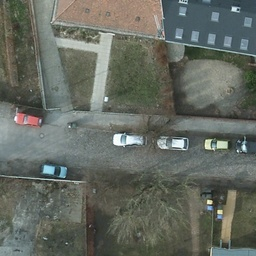car: (155, 133, 191, 152), (13, 112, 48, 129), (112, 131, 147, 148), (40, 163, 67, 181), (201, 136, 231, 151)
